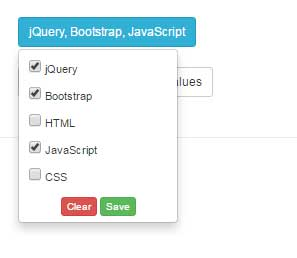checkbox: (25, 83, 43, 107), (25, 56, 43, 75), (26, 112, 43, 130), (26, 138, 43, 156), (27, 167, 42, 181)
